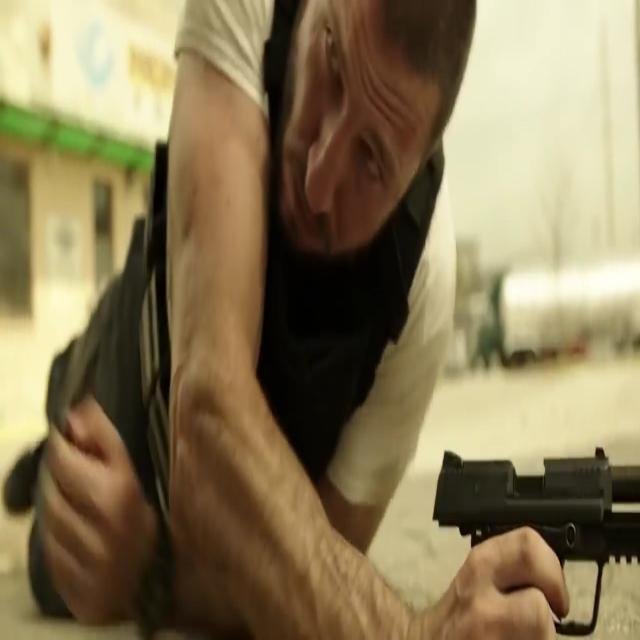Weapon: (413, 423, 639, 640)
